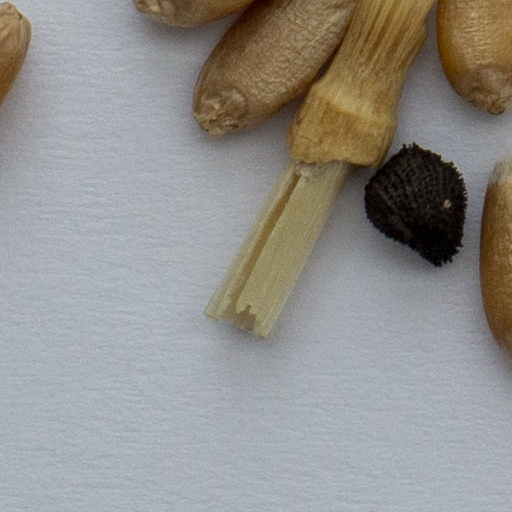Peel-poly: (206, 0, 434, 338)
